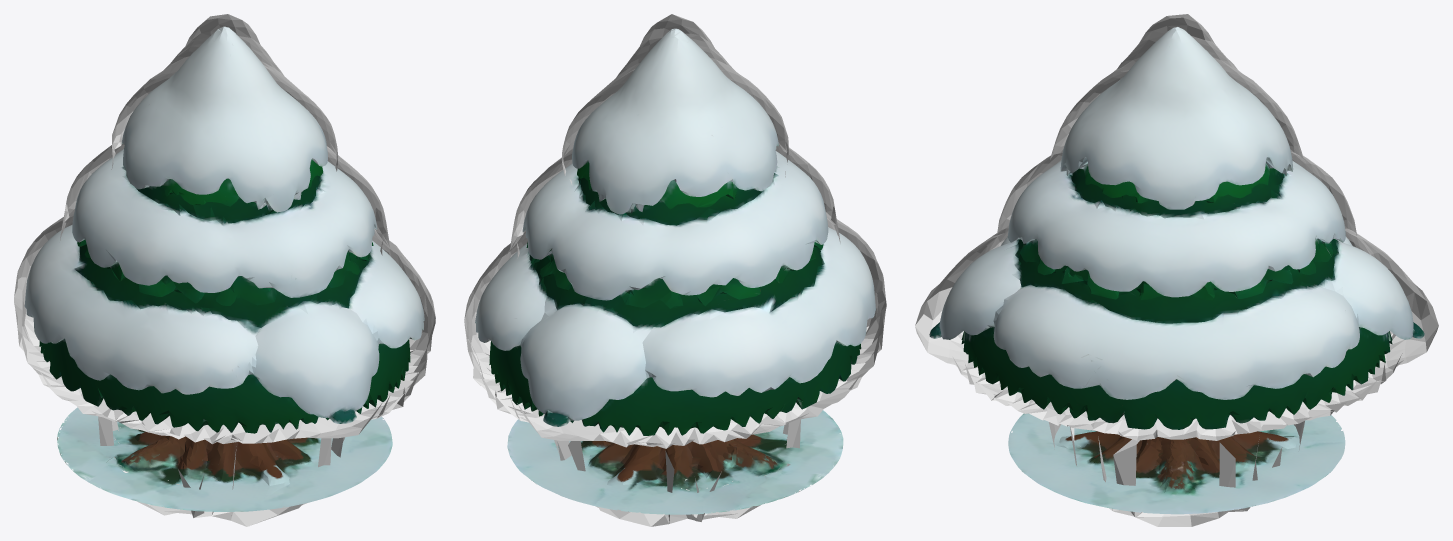
Rendered from Tundra_SnowPineSquat.glb.
3 renders of one model, left to right at view 1: azimuth 30°, elevation 25°; view 2: azimuth 150°, elevation 25°; view 3: azimuth 270°, elevation 25°, orthographic.
Visible parts, largest first — view 1: Tundra_SnowPineSquat, Tundra_SnowPineSquat_OutlineHull; view 2: Tundra_SnowPineSquat, Tundra_SnowPineSquat_OutlineHull; view 3: Tundra_SnowPineSquat, Tundra_SnowPineSquat_OutlineHull.
Part boxes in pixels (x1,y1,x2,y2): Tundra_SnowPineSquat: [24, 26, 424, 511]; Tundra_SnowPineSquat_OutlineHull: [14, 14, 435, 526]; Tundra_SnowPineSquat: [475, 28, 875, 514]; Tundra_SnowPineSquat_OutlineHull: [464, 14, 886, 526]; Tundra_SnowPineSquat: [929, 27, 1424, 514]; Tundra_SnowPineSquat_OutlineHull: [915, 14, 1438, 526].
Bounding box in the file's own units: 2.11 × 2.78 × 2.74.
2 materials, 1 textured.
